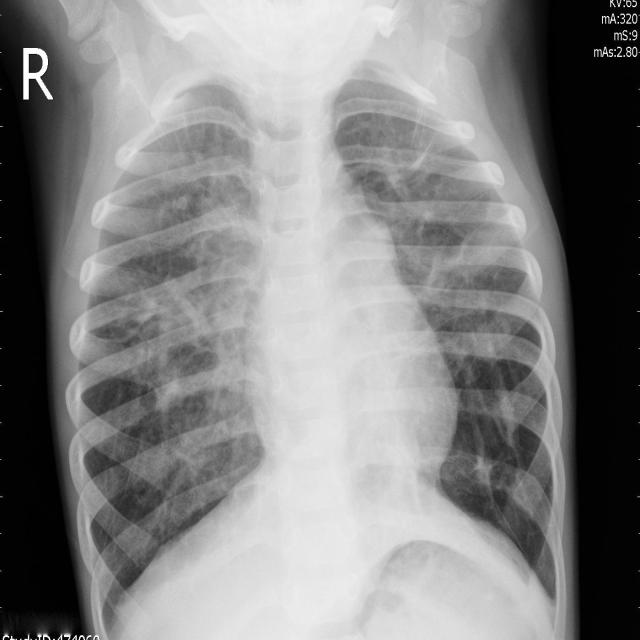low-pneumonia: (152, 160, 265, 491), (379, 145, 501, 380)
